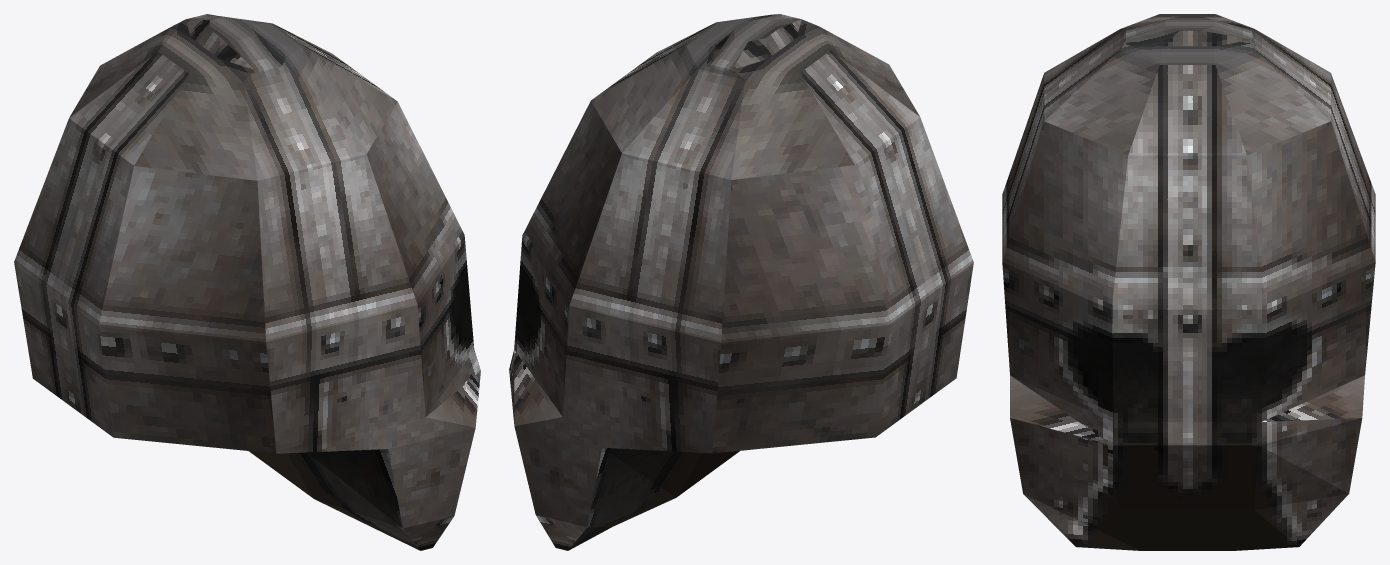
Rendered from malla.glb.
3 views of the same model, side by side, from view 1: azimuth 30°, elevation 25°; view 2: azimuth 150°, elevation 25°; view 3: azimuth 270°, elevation 25° (orthographic). The views are drawn at different scales.
Parts seen in each view (by area): view 1: armadura.casco.malla; view 2: armadura.casco.malla; view 3: armadura.casco.malla.
Part boxes in pixels (x1,y1,x2,y2): armadura.casco.malla: [14, 14, 480, 550]; armadura.casco.malla: [509, 14, 973, 550]; armadura.casco.malla: [1002, 14, 1375, 550].
Bounding box in the file's own units: 0.2764 × 0.35 × 0.2565.
Materials: 1 (1 with a texture image).
